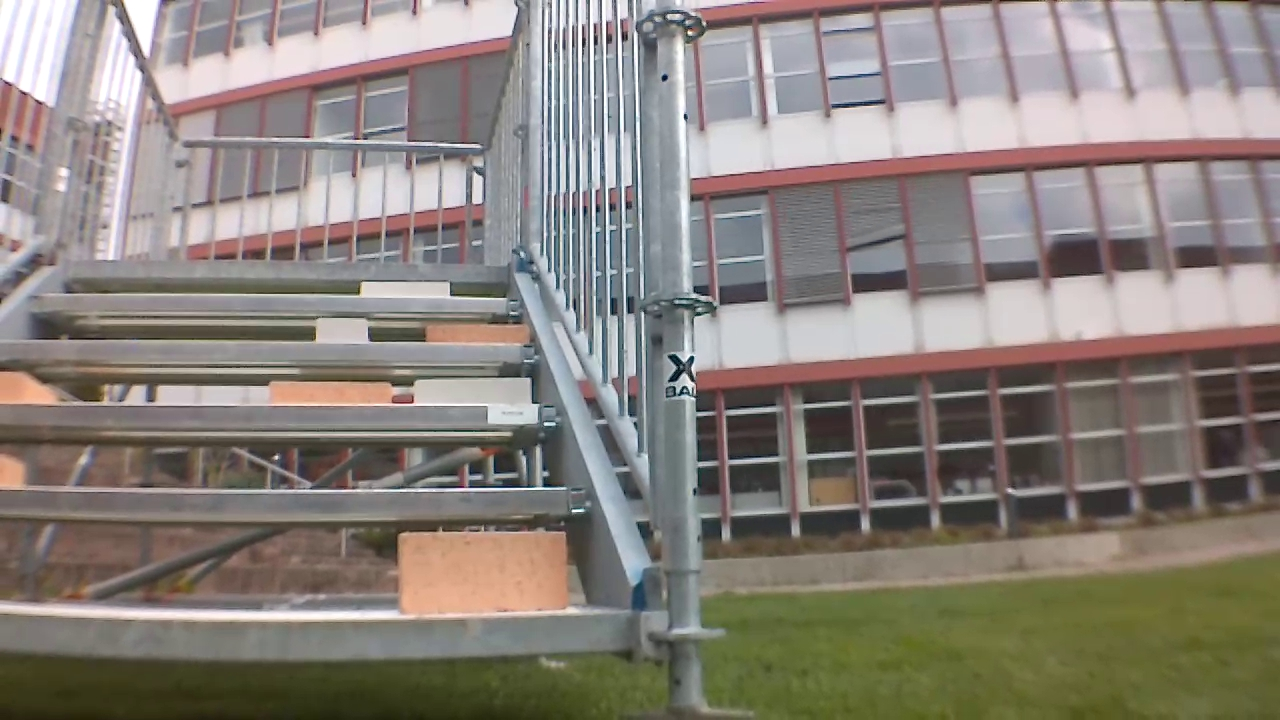brick: (400, 533, 567, 614), (261, 379, 388, 407), (421, 379, 528, 410), (349, 277, 454, 300), (427, 325, 528, 346), (313, 321, 363, 344)
edge: (0, 606, 644, 662), (0, 478, 609, 529), (0, 405, 577, 436), (25, 293, 537, 315), (0, 348, 548, 364), (52, 264, 512, 282)
stairs: (0, 0, 692, 714)
steps: (0, 257, 634, 663)
